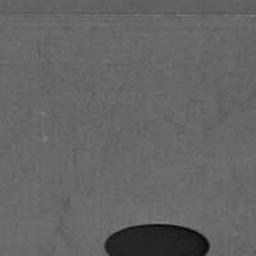Punching: (104, 223, 212, 256)
